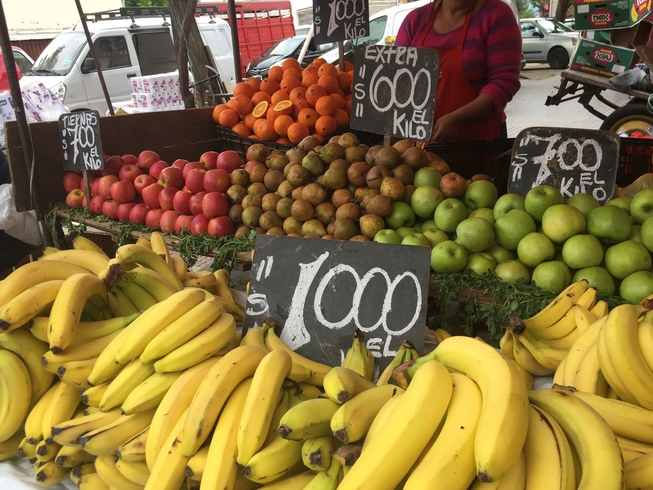precio: (237, 226, 447, 383), (507, 121, 626, 225), (340, 39, 447, 144), (53, 104, 114, 181), (309, 1, 379, 52)
